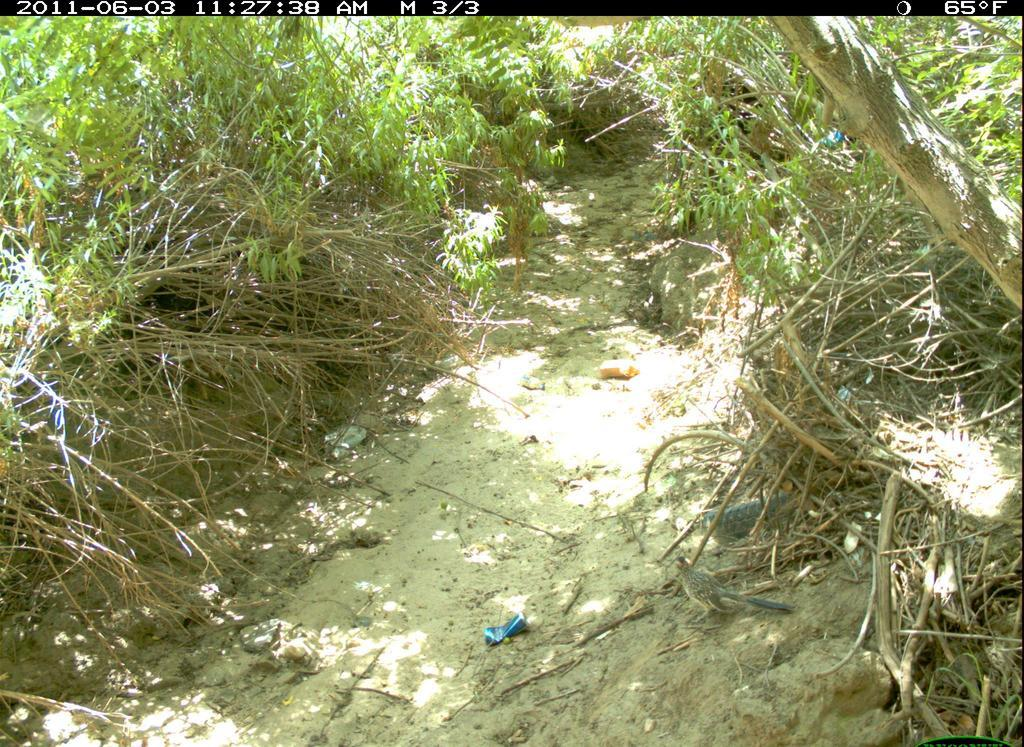bird: (661, 548, 806, 642)
